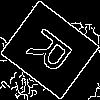R: (25, 25, 82, 82)
